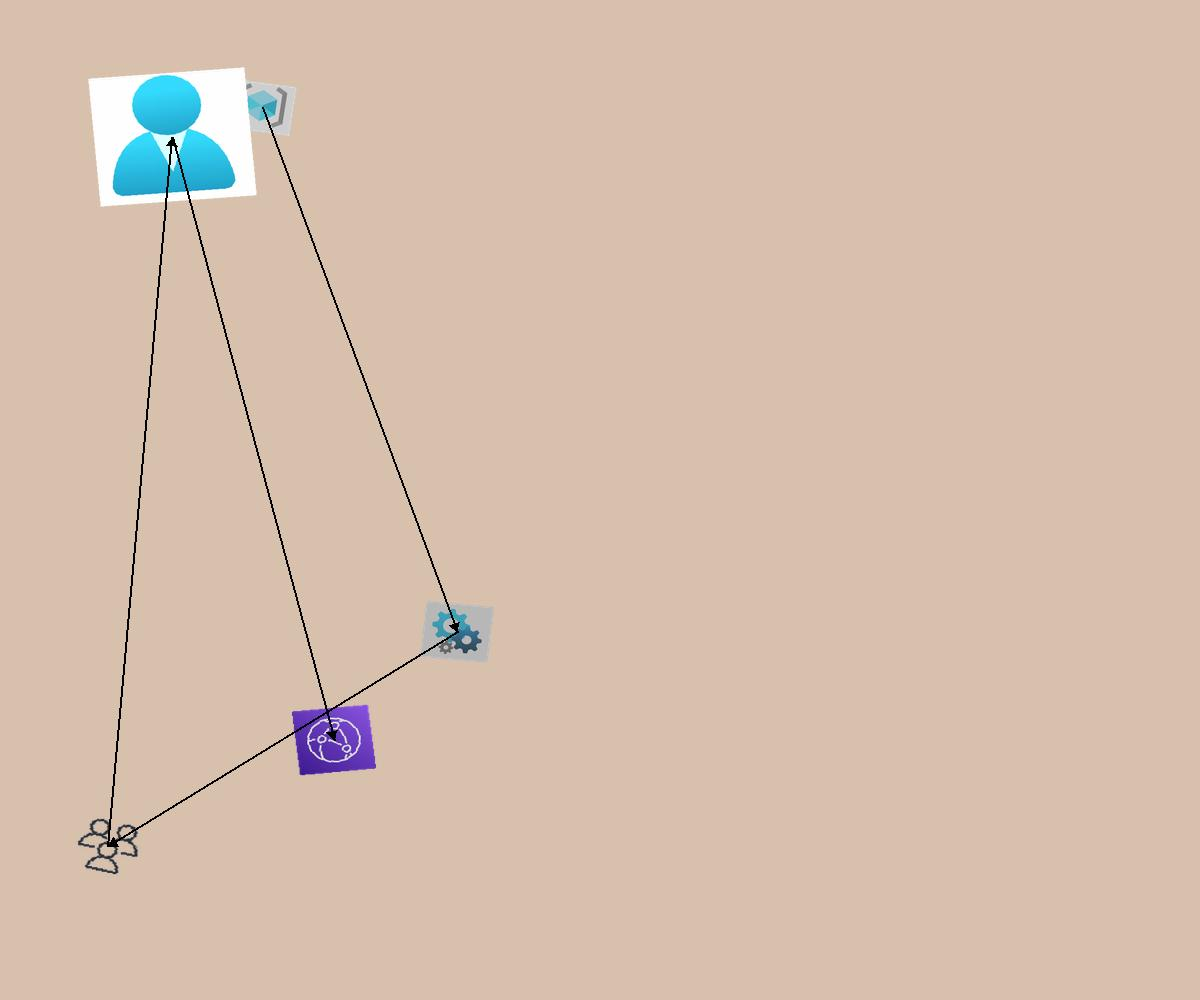AWS-CloudFront: (291, 704, 377, 776)
AWS-Res_Users: (67, 812, 150, 881)
Azure_api: (420, 601, 494, 663)
Azure_resource_group: (228, 79, 297, 136)
Azure_users: (88, 67, 257, 207)
